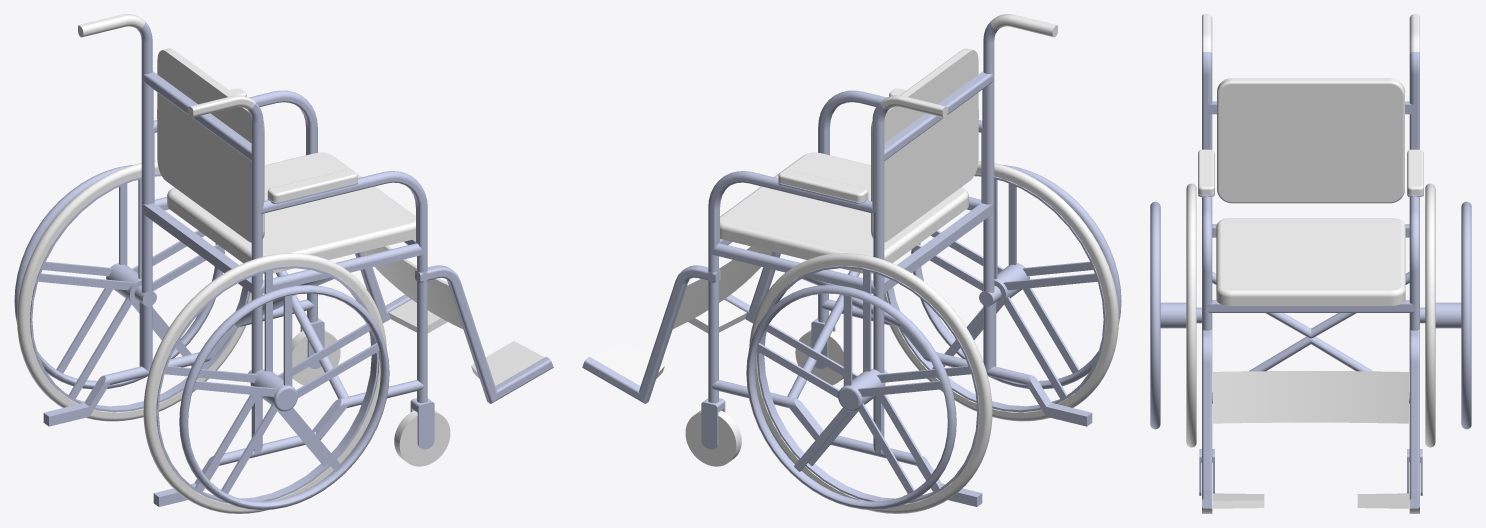
Rendered from WheelChair.FBX.
The picture shows the model from 3 angles, left to right: view 1: azimuth 30°, elevation 25°; view 2: azimuth 150°, elevation 25°; view 3: azimuth 270°, elevation 25°; orthographic projection. The views are drawn at different scales.
Visible parts, largest first — view 1: 87 (×13); view 2: 87 (×13); view 3: 87 (×12).
Boxes of the visible parts, <box> form: 87 (×13): <box>14,14,553,513</box>; 87 (×13): <box>582,14,1121,513</box>; 87 (×12): <box>1150,14,1471,508</box>.
Size of the model in its own units: 3.44 by 3.28 by 2.44.
